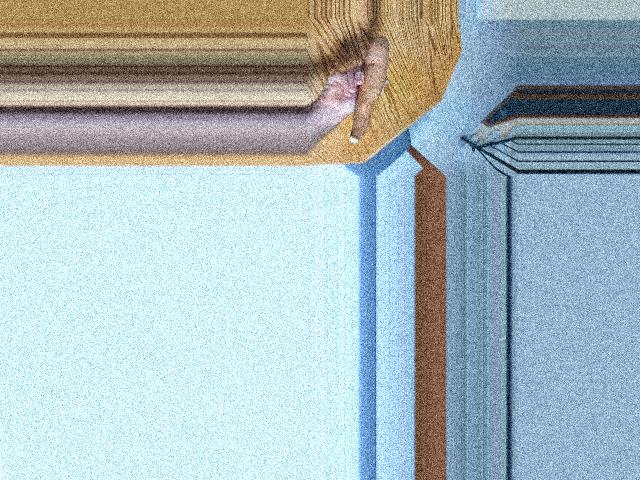sweet_potato: (347, 41, 395, 140)
